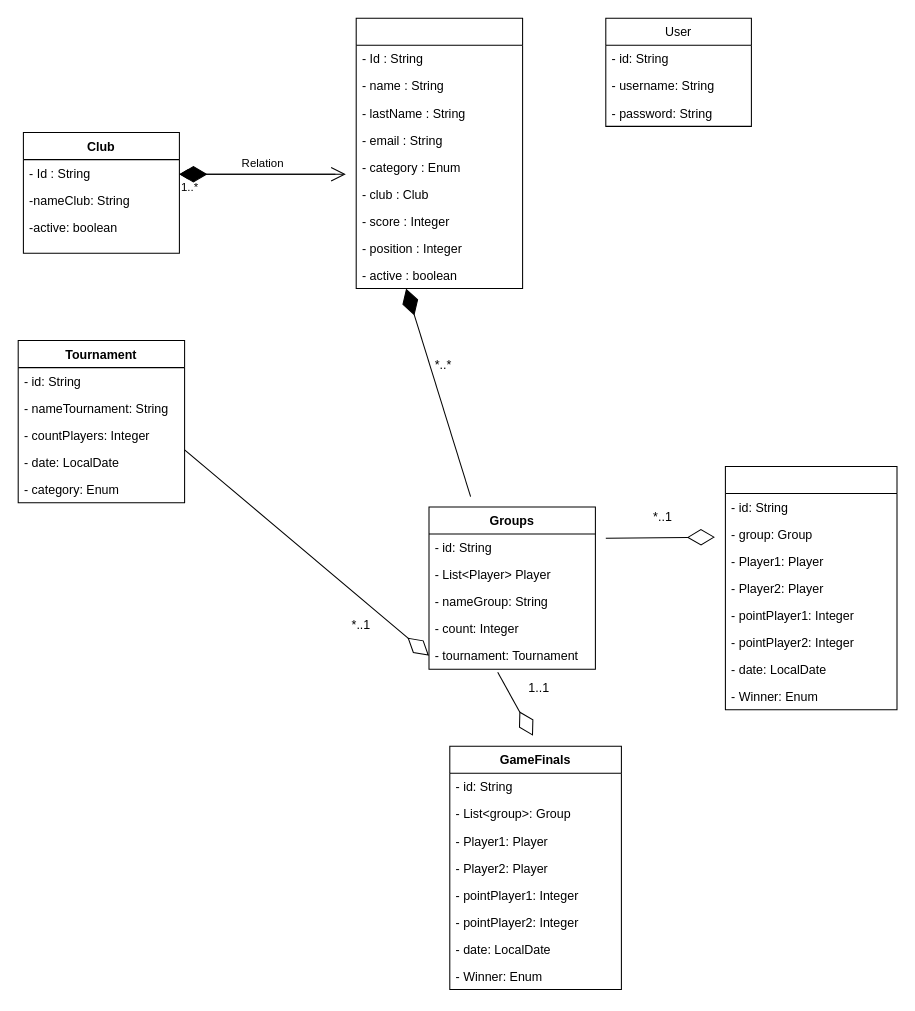
The diagram is 915 pixels wide and 1011 high, and some of its shapes have lost their labels. Here are the shapes that lost their labels. From the top down, the box of each, then its label:
(355, 17, 523, 289): Player
(724, 465, 897, 710): GameInit
